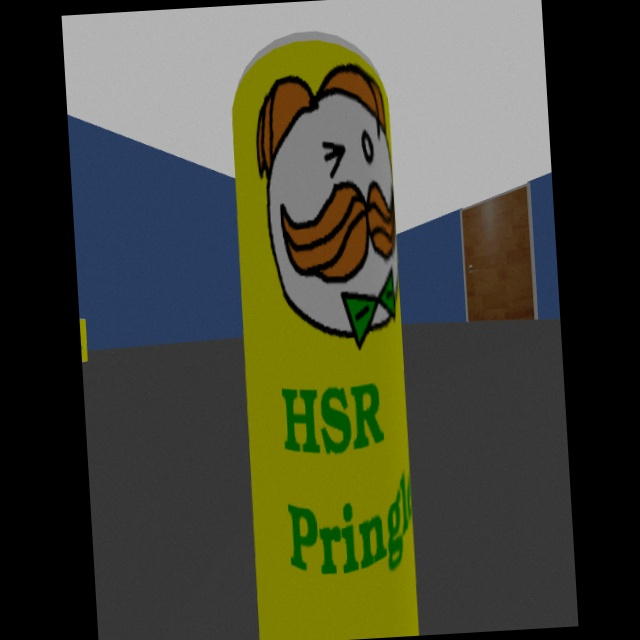chipsdose_gelb: (232, 31, 419, 640), (80, 319, 88, 364)
